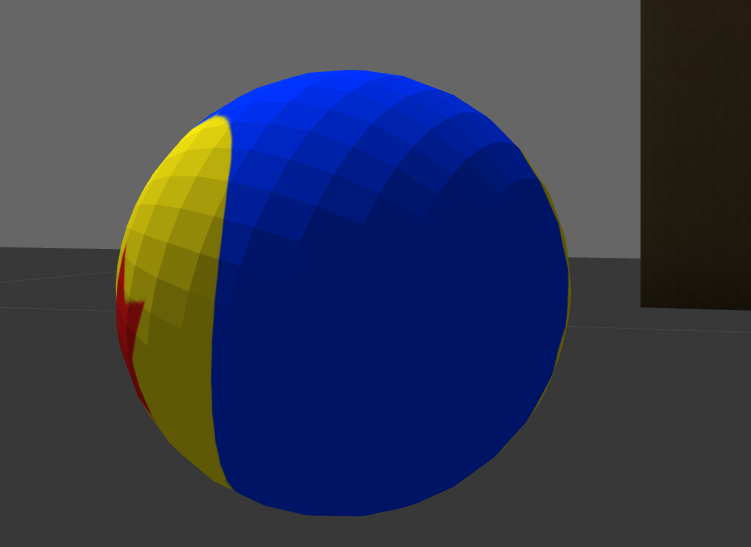toy story ball: (116, 68, 573, 516)
